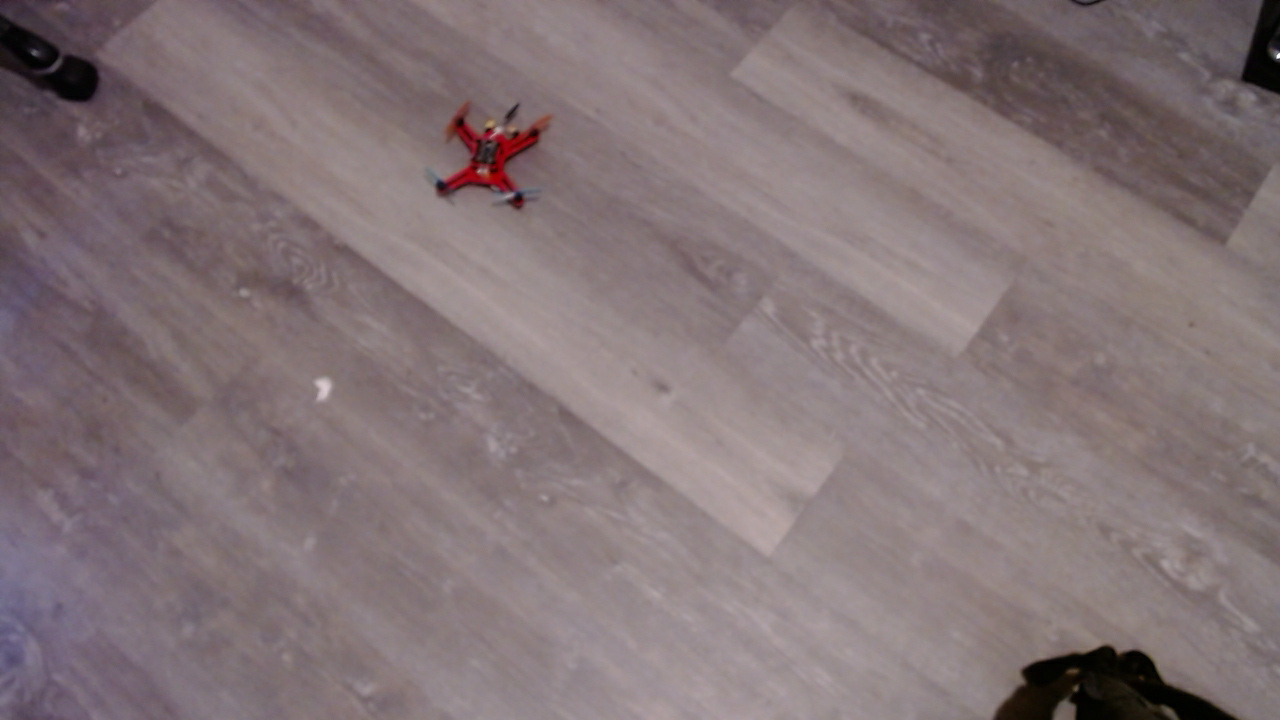crazyflie: (431, 104, 567, 215)
